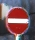No entry: (6, 6, 30, 35)
